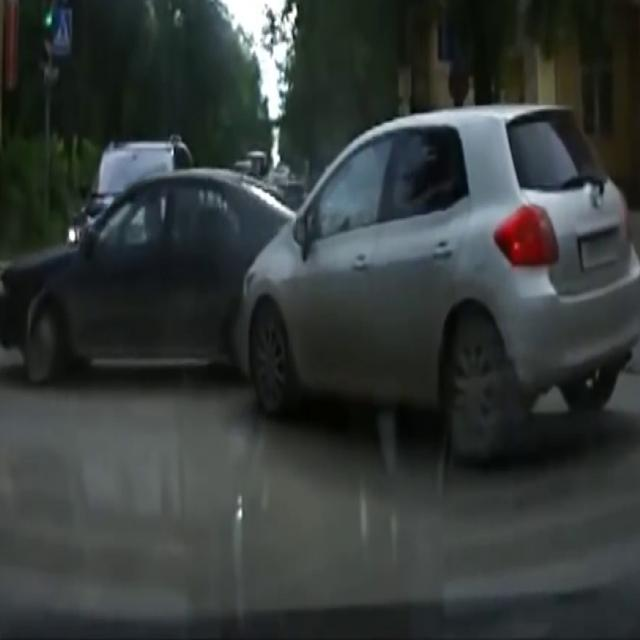accident: (158, 130, 416, 428)
